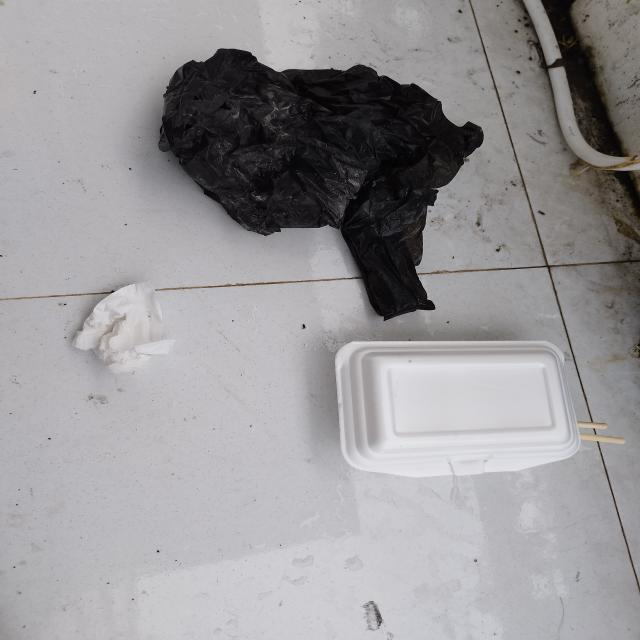bag: (153, 45, 488, 322)
foam box: (337, 338, 582, 478)
napkin: (64, 277, 179, 376)
